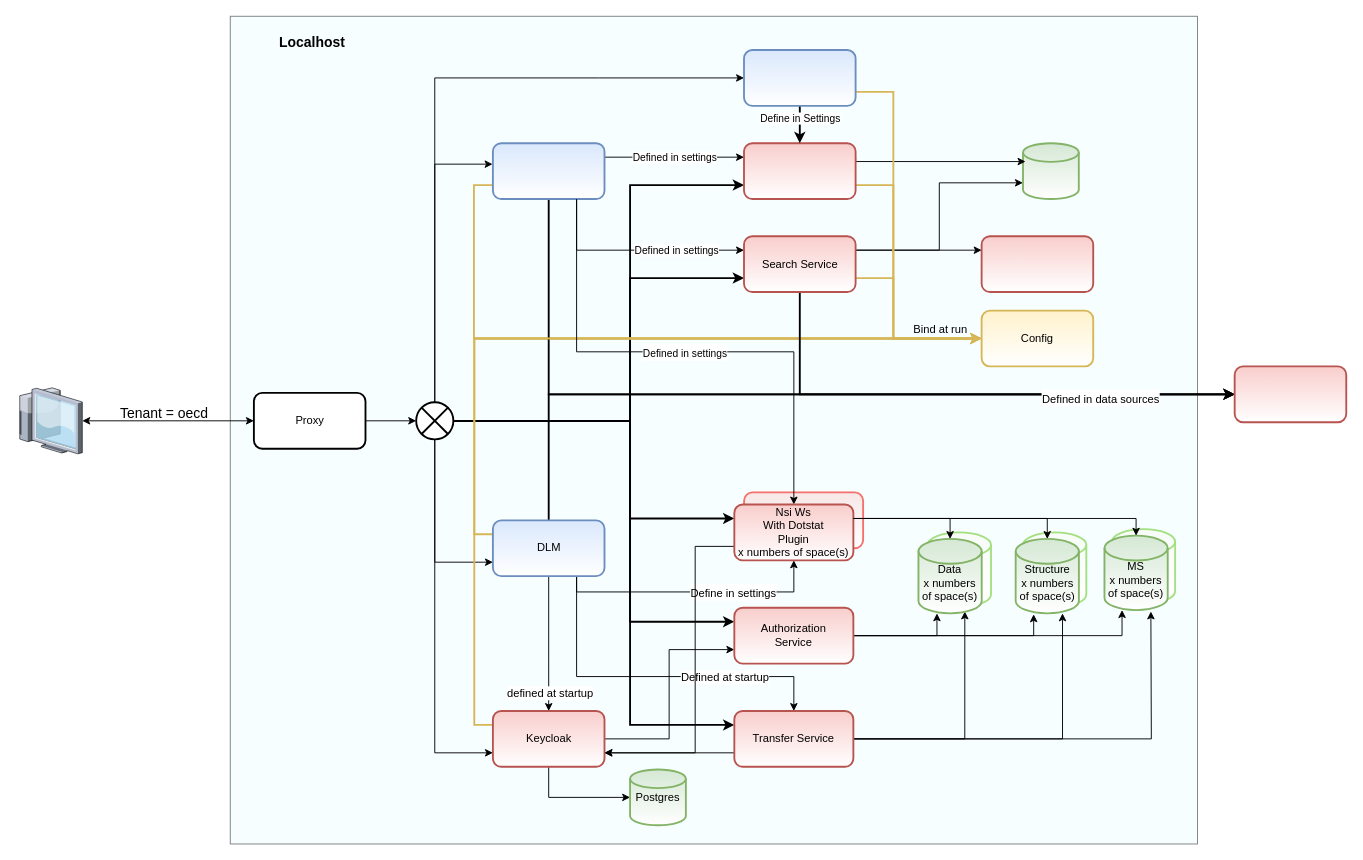
Some shapes in this 1363 by 860 pixel diagram are drawn without their labels. Each missing label, with the box of its shape:
DataExplorer: (492, 142, 605, 199)
redis: (1022, 142, 1079, 199)
sdmx indexable: (1233, 365, 1347, 423)
Share Service: (743, 142, 856, 199)
SOLR: (980, 235, 1094, 292)
viewer: (743, 49, 856, 106)
